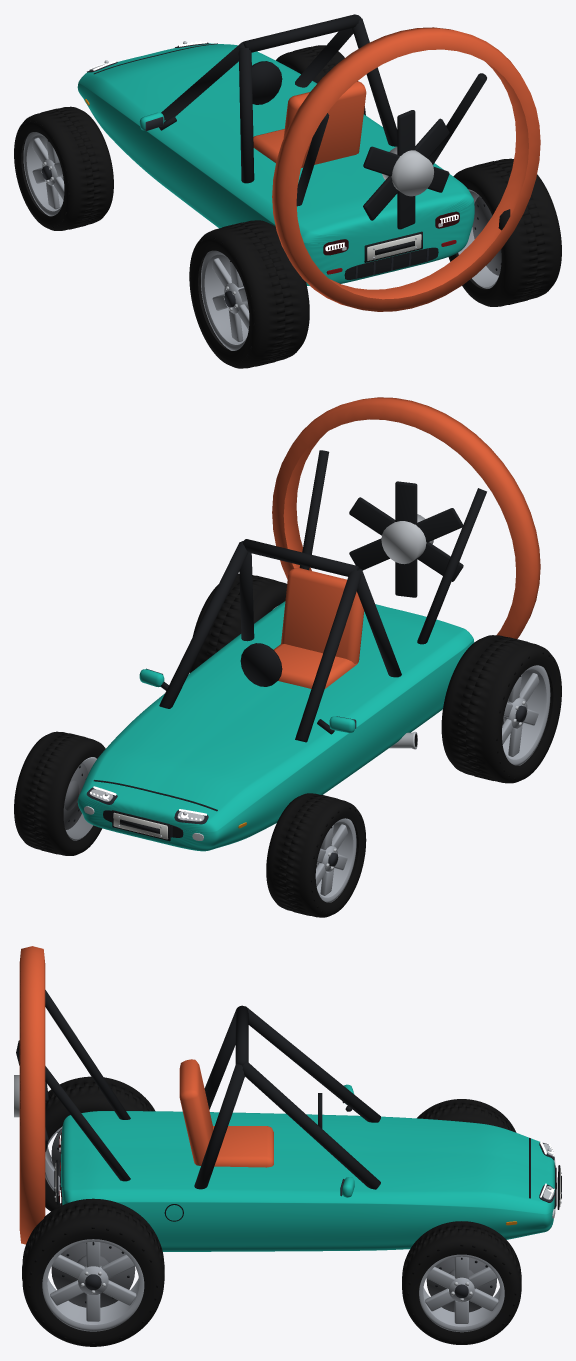
Rendered from twister.glb.
3 views of the same model, one above another, from view 1: azimuth 30°, elevation 25°; view 2: azimuth 150°, elevation 25°; view 3: azimuth 270°, elevation 25° (orthographic).
Visible parts, largest first — view 1: Body, Wheel_RL, Wheel_FL, Wheel_RR, Wheel_FR; view 2: Body, Wheel_RL, Wheel_FL, Wheel_FR, Wheel_RR; view 3: Body, Wheel_RR, Wheel_FR, Wheel_RL, Wheel_FL.
Part boxes in pixels (x1,y1,x2,y2): Body: (77, 14, 540, 311); Wheel_RL: (189, 220, 309, 368); Wheel_FL: (14, 106, 113, 230); Wheel_RR: (448, 158, 561, 306); Wheel_FR: (276, 45, 365, 115); Body: (77, 397, 540, 851); Wheel_RL: (441, 635, 561, 783); Wheel_FL: (266, 793, 366, 917); Wheel_FR: (14, 731, 105, 855); Wheel_RR: (189, 573, 287, 673); Body: (14, 946, 561, 1251); Wheel_RR: (22, 1198, 164, 1346); Wheel_FR: (402, 1221, 521, 1344); Wheel_RL: (45, 1076, 155, 1211); Wheel_FL: (417, 1099, 516, 1132).
Size of what is drawn, in the model's own units: 2.49 by 2.46 by 3.87.
